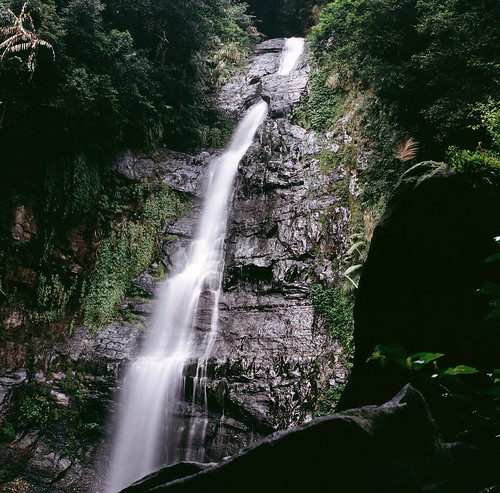wufengciWaterfall: (92, 22, 340, 458)
